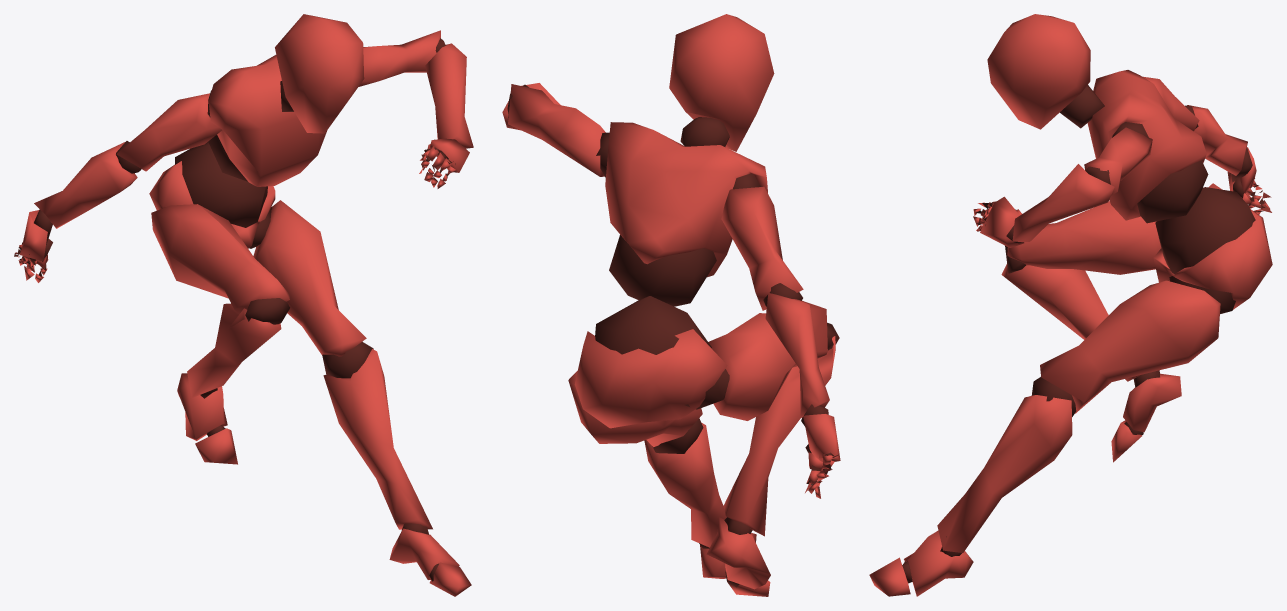
3 views of the same model, side by side, from view 1: azimuth 30°, elevation 25°; view 2: azimuth 150°, elevation 25°; view 3: azimuth 270°, elevation 25° (orthographic). The views are drawn at different scales.
Visible parts, largest first — view 1: Beta_Surface; view 2: Beta_Surface; view 3: Beta_Surface.
Boxes of the visible parts, x1=… form: Beta_Surface: x1=14, y1=14, x2=473, y2=596; Beta_Surface: x1=502, y1=14, x2=840, y2=596; Beta_Surface: x1=869, y1=14, x2=1272, y2=596.
Size of the model in its own units: 8.85 by 12.36 by 8.28.
